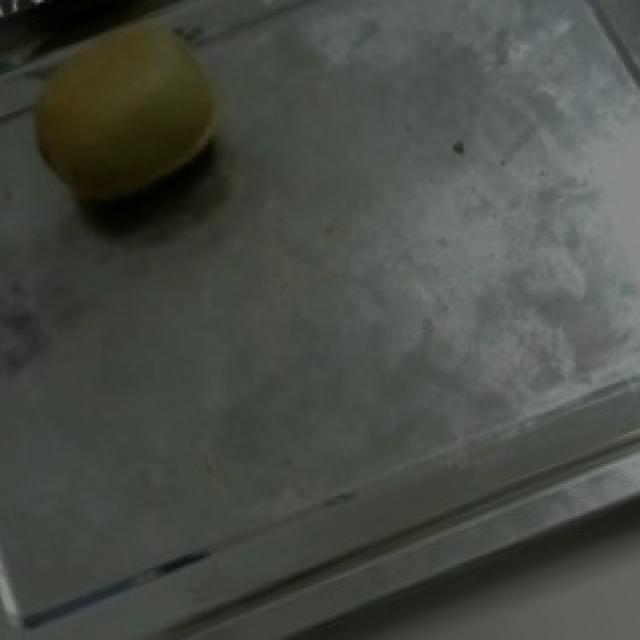Fruit: (0, 0, 258, 253)
